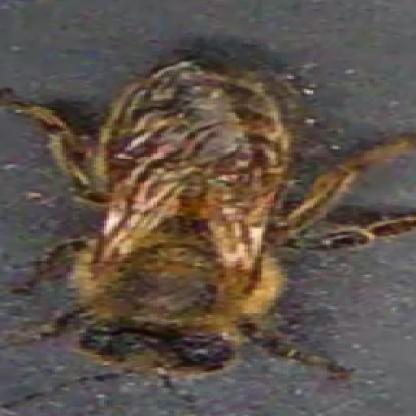bee: (85, 41, 303, 377)
